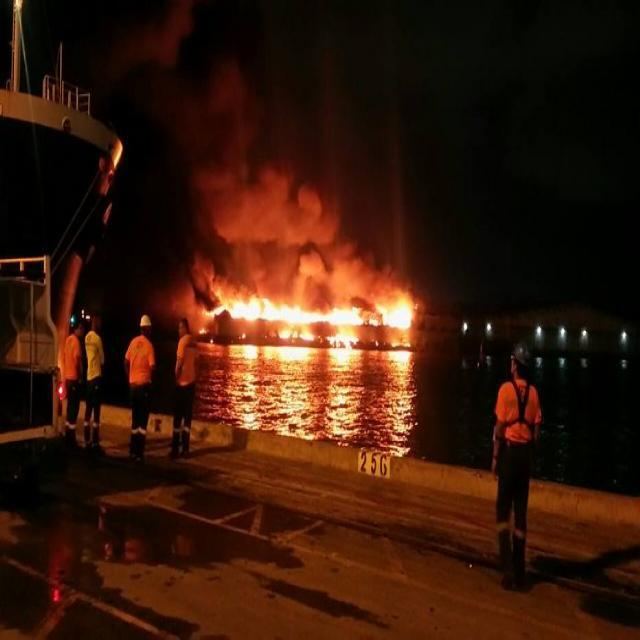Fire: (214, 290, 419, 322), (323, 326, 358, 346), (277, 328, 316, 340), (390, 335, 412, 353), (198, 326, 209, 337), (237, 328, 248, 339)
